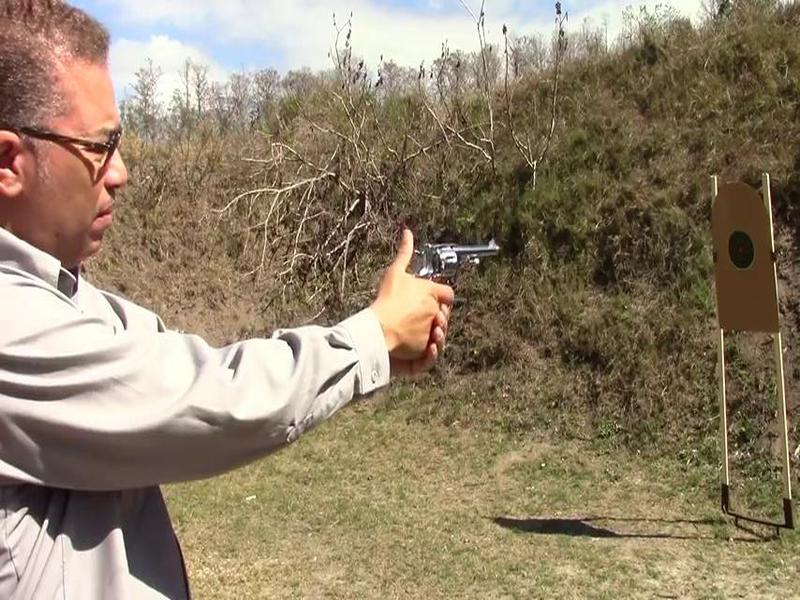Revolver: (386, 224, 516, 316)
